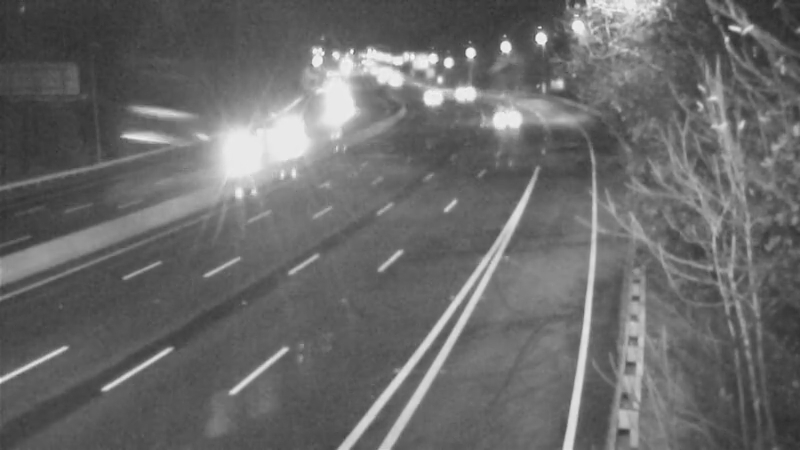vehicle: (204, 113, 284, 193), (400, 69, 450, 119), (435, 66, 485, 116), (475, 87, 525, 137), (262, 110, 312, 160)
